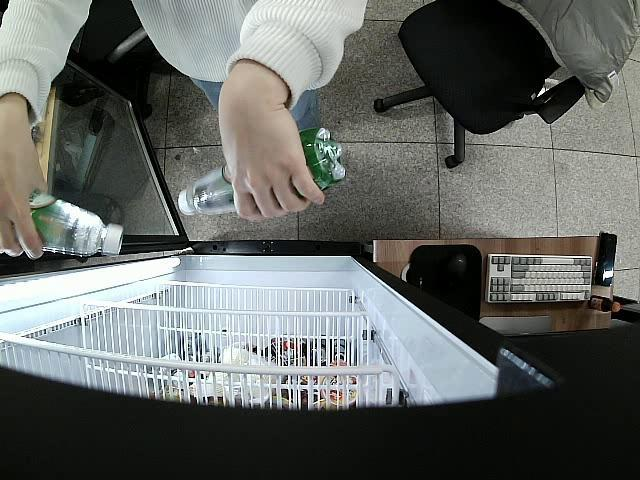18_trevi: (178, 127, 344, 215), (11, 193, 125, 258)
